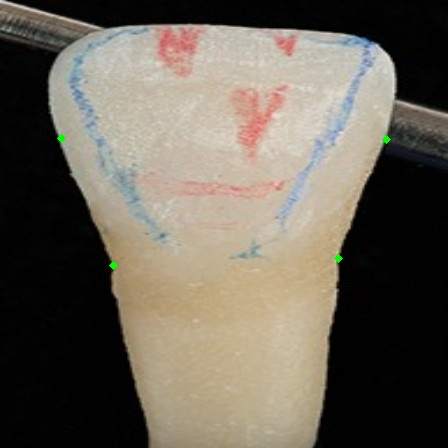coin_1: (113, 265, 133, 285)
coin_2: (61, 138, 81, 158)
coin_3: (338, 258, 358, 278)
coin_4: (386, 139, 406, 159)
